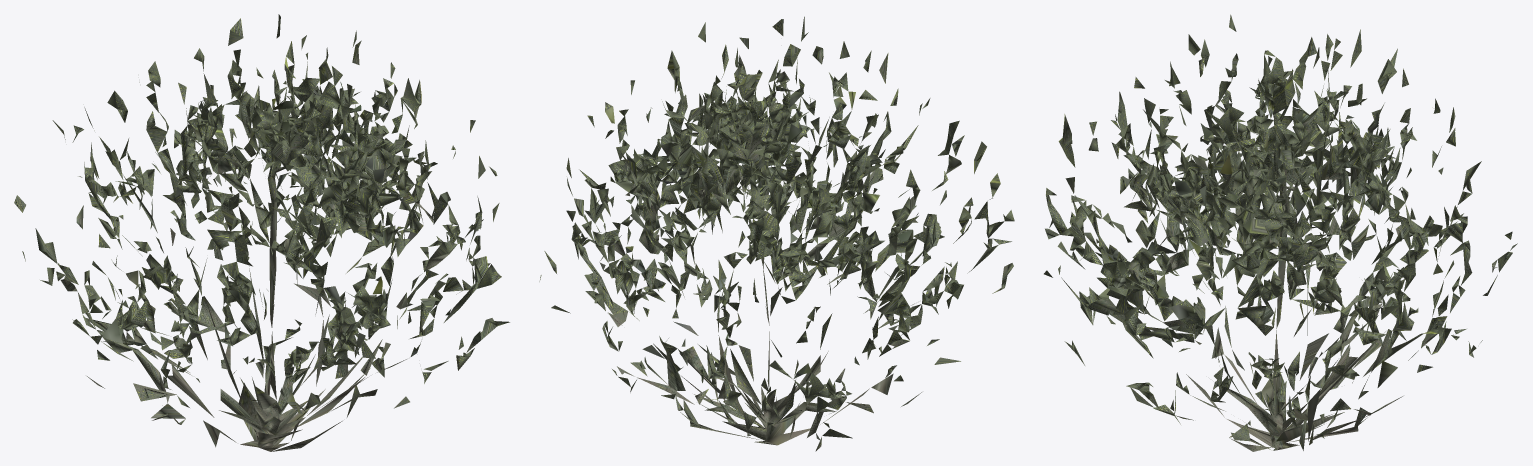
File: desert-plants-big-sagebrush.glb
3 views of the same model, side by side, from view 1: azimuth 30°, elevation 25°; view 2: azimuth 150°, elevation 25°; view 3: azimuth 270°, elevation 25° (orthographic). The views are drawn at different scales.
Visible parts, largest first — view 1: world; view 2: world; view 3: world.
Part boxes in pixels (x1=…): world: x1=14, y1=14, x2=509, y2=451; world: x1=539, y1=16, x2=1014, y2=451; world: x1=1044, y1=14, x2=1517, y2=451.
Size of the model in its own units: 0.9294 by 0.898 by 0.9445.
Materials: 1 (1 with a texture image).
